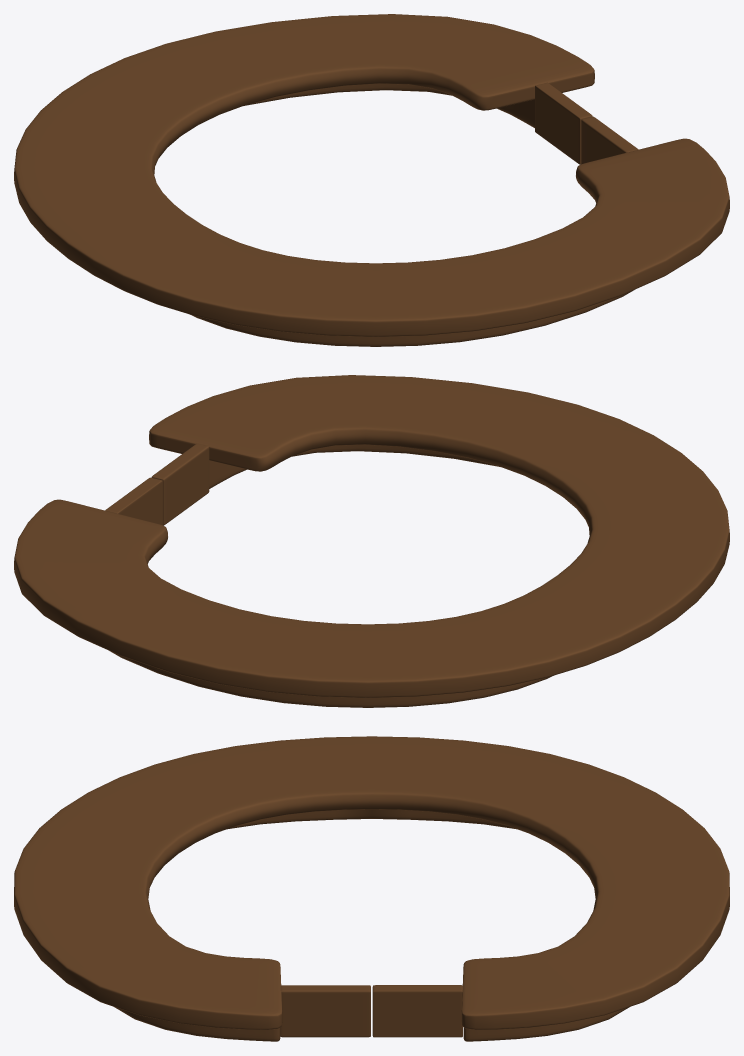
The model's file is MesadaPrincipal.fbx.
The picture shows the model from 3 angles, top to bottom: view 1: azimuth 30°, elevation 25°; view 2: azimuth 150°, elevation 25°; view 3: azimuth 270°, elevation 25°; orthographic projection.
Parts seen in each view (by area): view 1: Torus, Cube; view 2: Torus, Cube; view 3: Torus, Cube.
Boxes of the visible parts, box(x1,y1,x2,y2) form: Torus: box(14, 14, 729, 346); Cube: box(535, 82, 638, 164); Torus: box(14, 375, 729, 707); Cube: box(105, 443, 209, 525); Torus: box(14, 736, 729, 1041); Cube: box(280, 985, 462, 1037).
Bounding box in the file's own units: 193 × 16.55 × 210.
